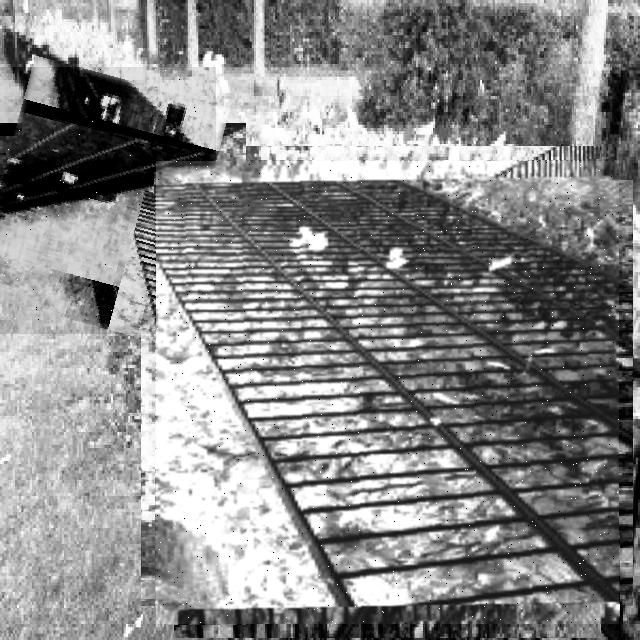fences: (156, 161, 619, 624), (0, 67, 216, 334)
